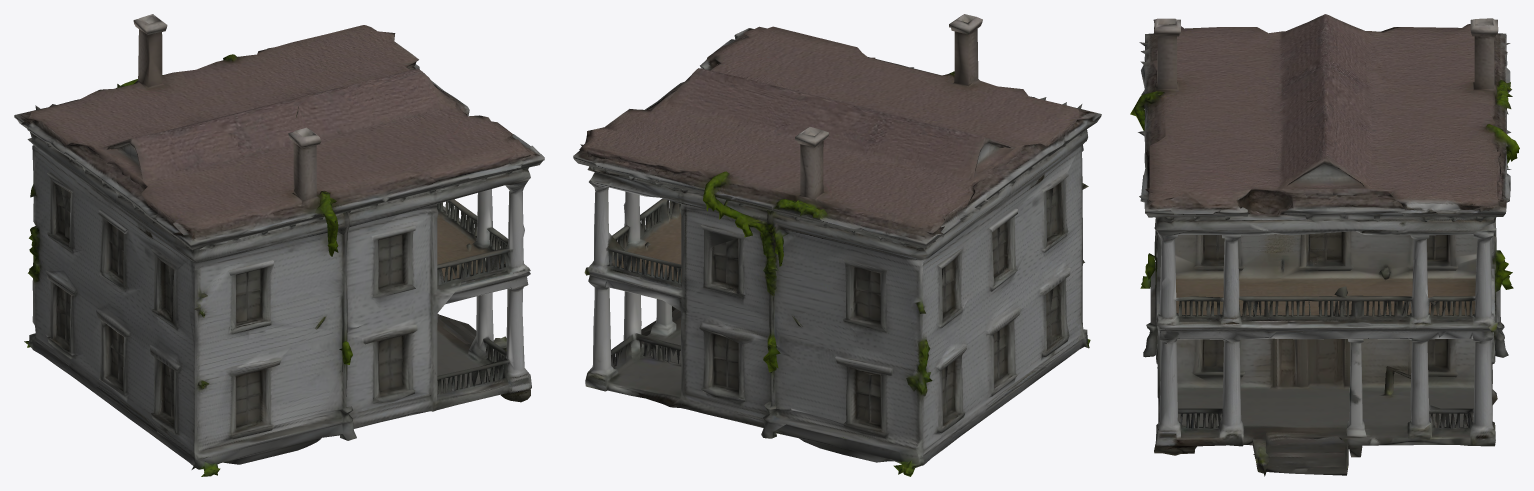
File: plantation_facade.glb
3 views of the same model, side by side, from view 1: azimuth 30°, elevation 25°; view 2: azimuth 150°, elevation 25°; view 3: azimuth 270°, elevation 25° (orthographic). The views are drawn at different scales.
Parts seen in each view (by area): view 1: tripo_node_102bfc3b-804e-49b0-a20f-ce45667fcb06; view 2: tripo_node_102bfc3b-804e-49b0-a20f-ce45667fcb06; view 3: tripo_node_102bfc3b-804e-49b0-a20f-ce45667fcb06.
Boxes of the visible parts, <box> form: tripo_node_102bfc3b-804e-49b0-a20f-ce45667fcb06: <box>14,14,544,476</box>; tripo_node_102bfc3b-804e-49b0-a20f-ce45667fcb06: <box>573,14,1101,476</box>; tripo_node_102bfc3b-804e-49b0-a20f-ce45667fcb06: <box>1130,14,1519,476</box>.
Size of the model in its own units: 1 by 0.7921 by 0.8499.
Materials: 1 (1 with a texture image).
